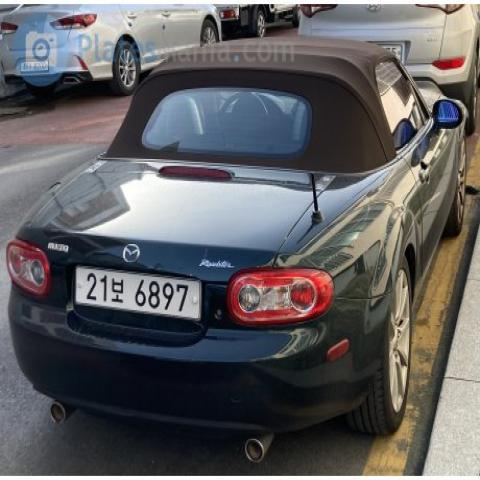LP: (58, 256, 214, 339)
